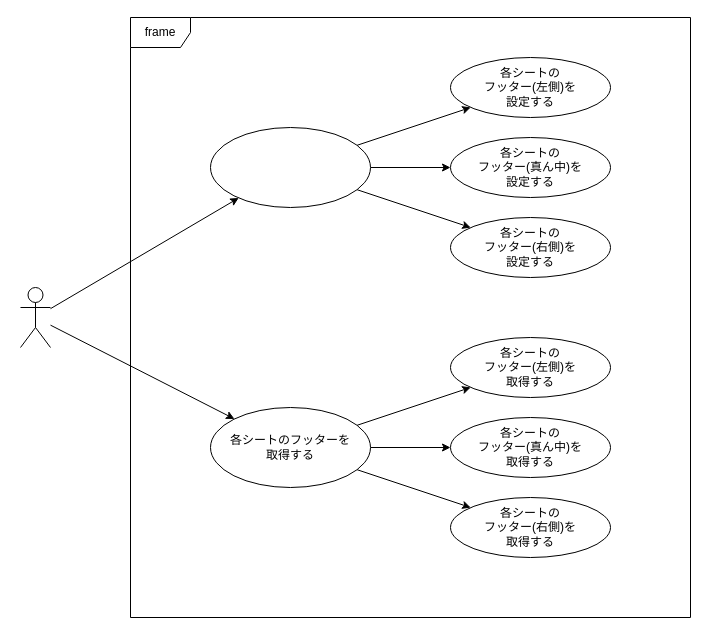
Image size: 708x635. Some labels were removed from this diagram. Each missing label, with the centre of its shape:
"ユーザ" goes at (35,317).
"各シートに フッターを設定する" goes at (290,167).
